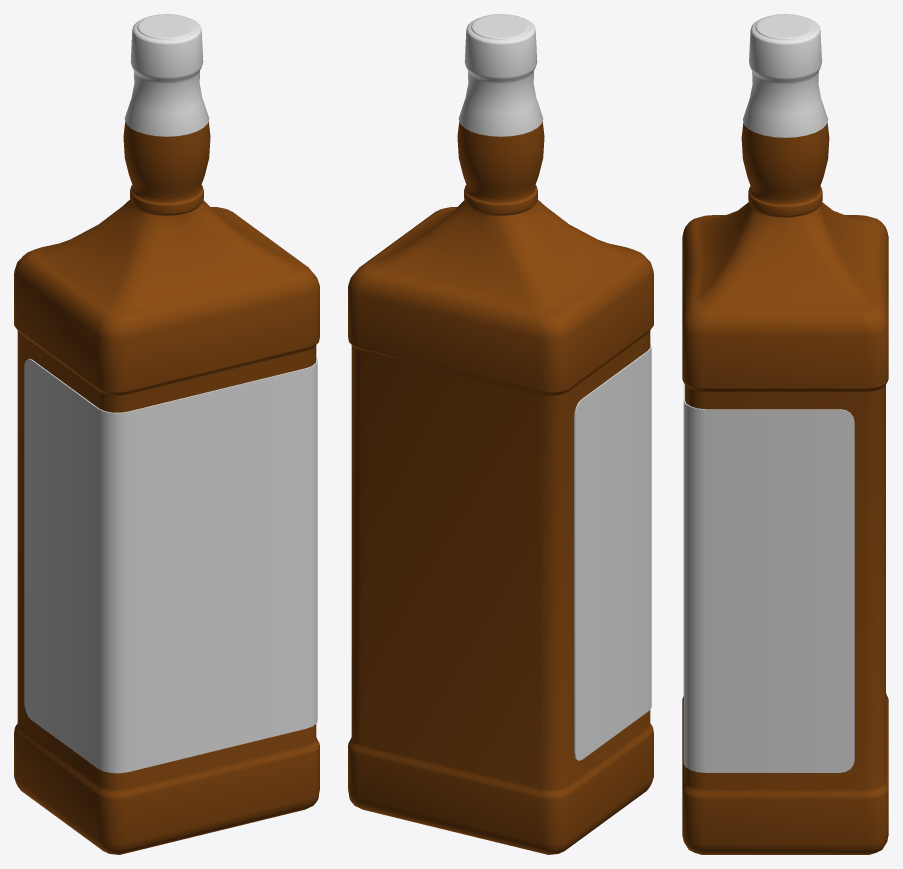
File: MESH_Bottle_D.fbx
3 views of the same model, side by side, from view 1: azimuth 30°, elevation 25°; view 2: azimuth 150°, elevation 25°; view 3: azimuth 270°, elevation 25° (orthographic).
Visible parts, largest first — view 1: Bottle_D; view 2: Bottle_D; view 3: Bottle_D.
Boxes of the visible parts, <box> form: Bottle_D: <box>14,14,319,854</box>; Bottle_D: <box>348,14,653,854</box>; Bottle_D: <box>682,14,888,854</box>.
Bounding box in the file's own units: 15.51 × 52.4 × 12.55.
